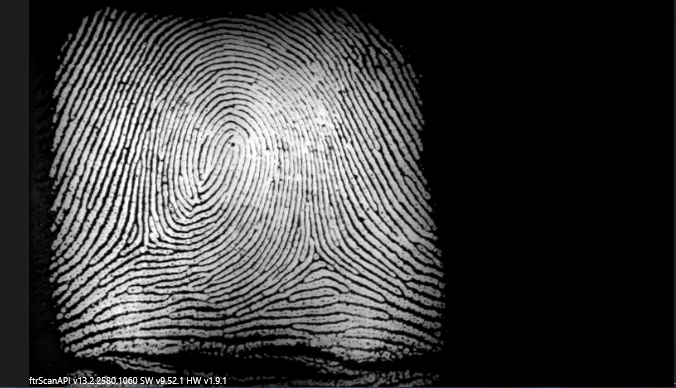nucelo: (202, 121, 259, 174)
verticilo: (295, 237, 334, 273), (119, 233, 166, 260)
